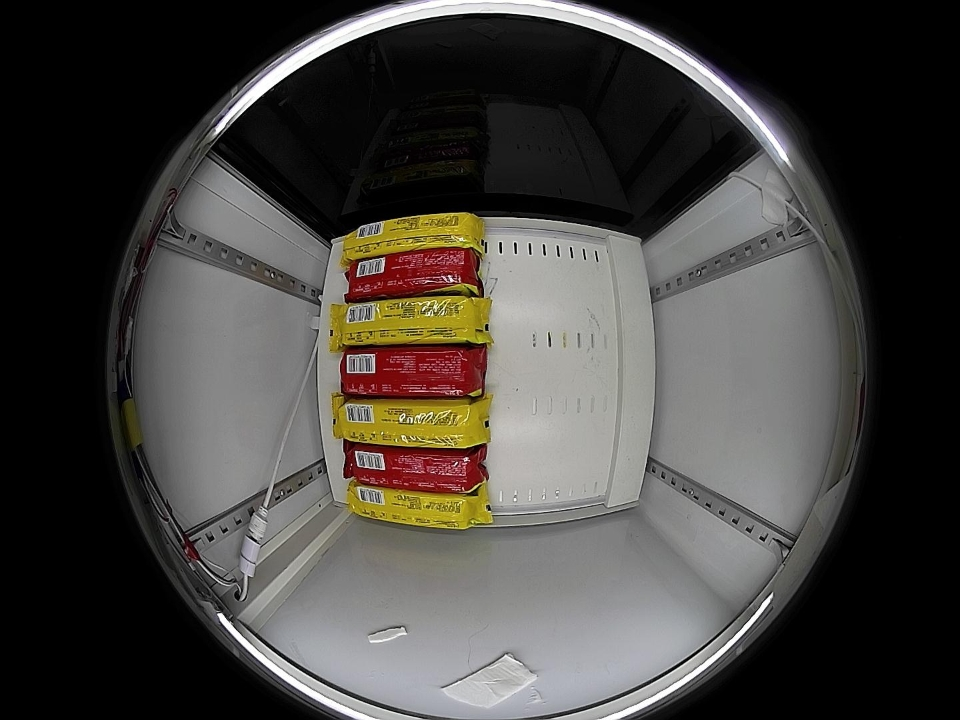3+2-2: (337, 398, 488, 448), (338, 297, 483, 348), (342, 212, 482, 260), (348, 485, 488, 529)
3jia2: (340, 347, 486, 397), (345, 248, 483, 297), (344, 447, 484, 491)
